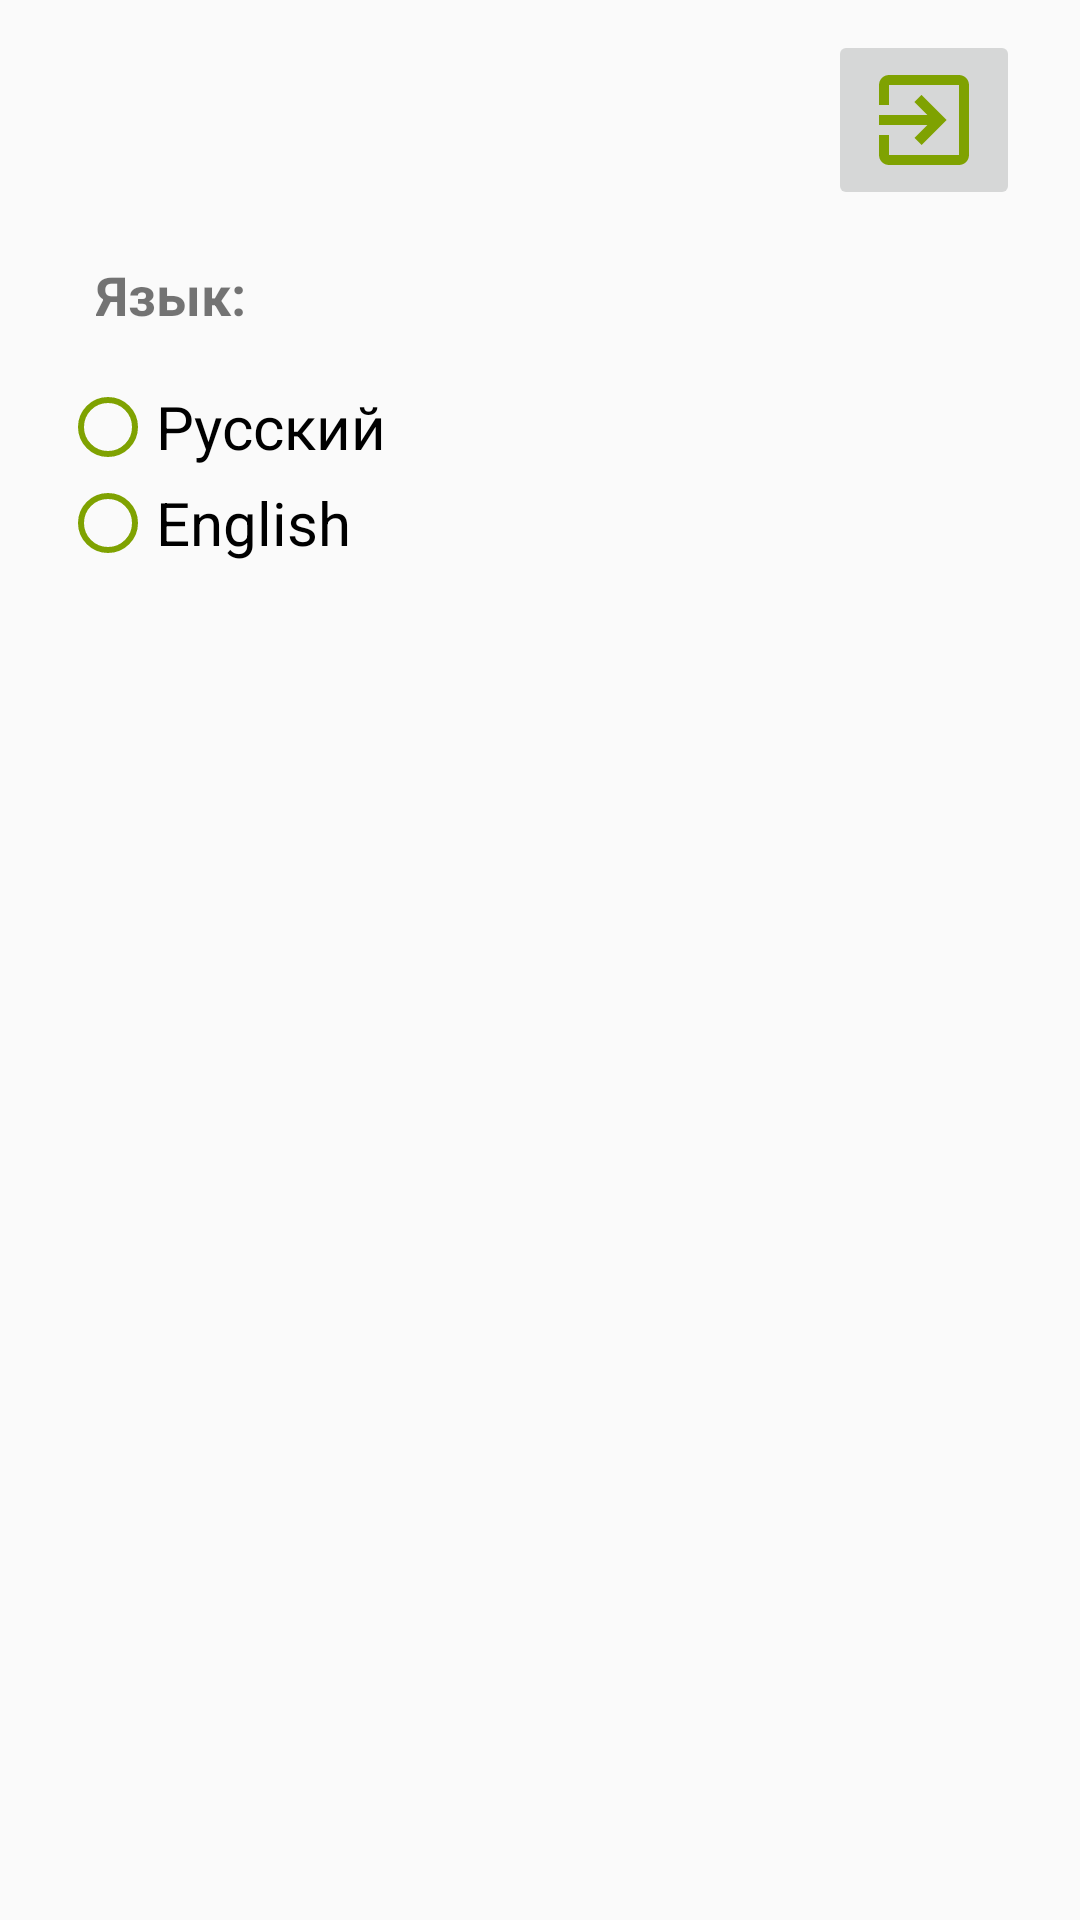

Where icons sit on this 1080*1920 app screen, as (x1, y1, x2, y2):
exit to app: (840, 48, 1008, 192)
